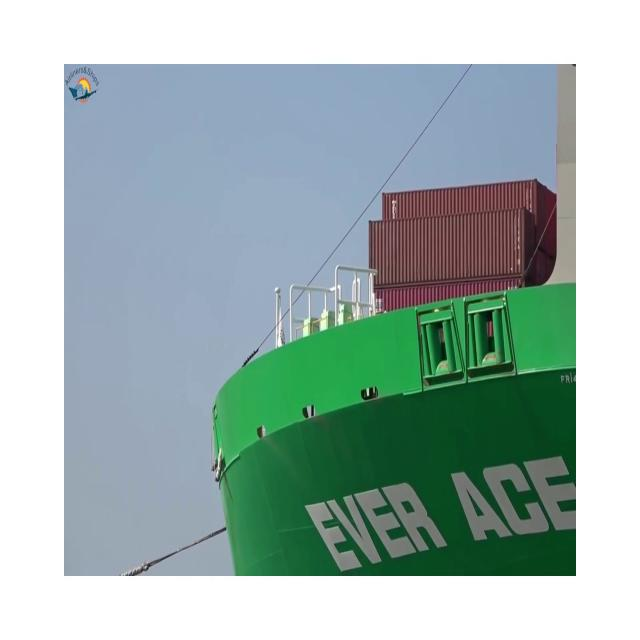OCR: (290, 452, 578, 574)
